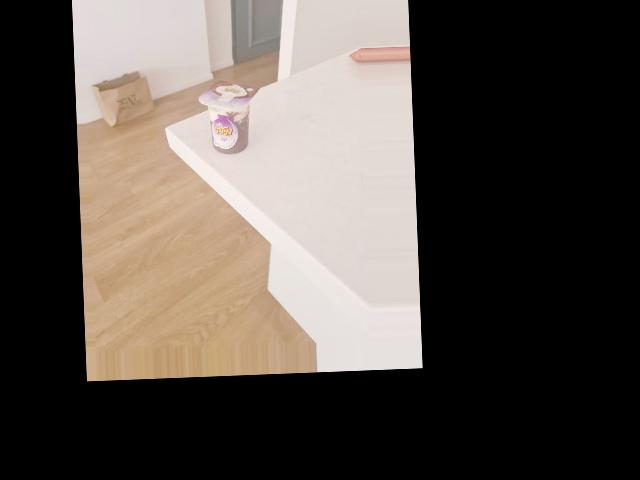milky: (194, 78, 259, 154)
